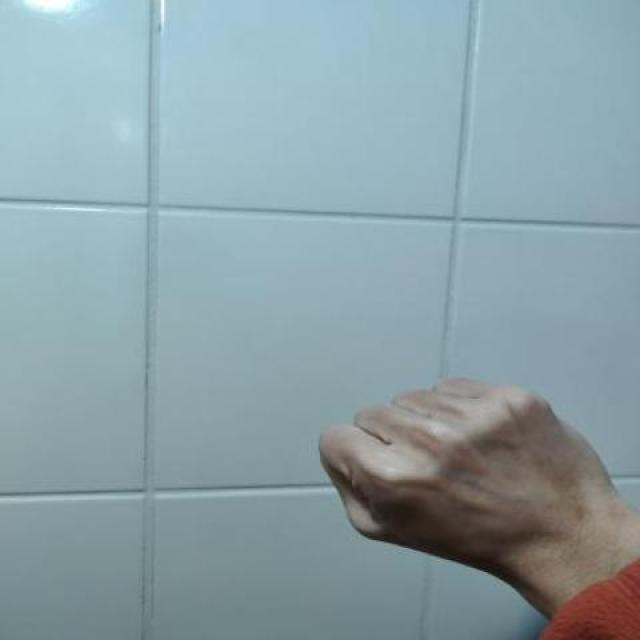Closed Hand: (293, 339, 640, 608)
